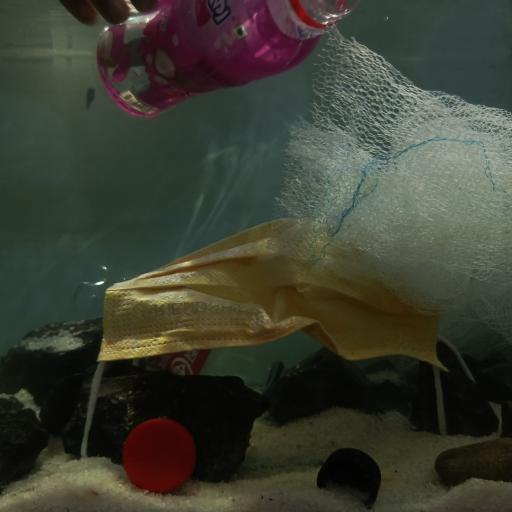bottle_cap: (123, 414, 198, 491), (316, 445, 382, 510)
mask: (92, 215, 459, 397)
net: (270, 21, 512, 346)
plastic_bottle: (92, 0, 353, 122), (70, 256, 282, 388)
